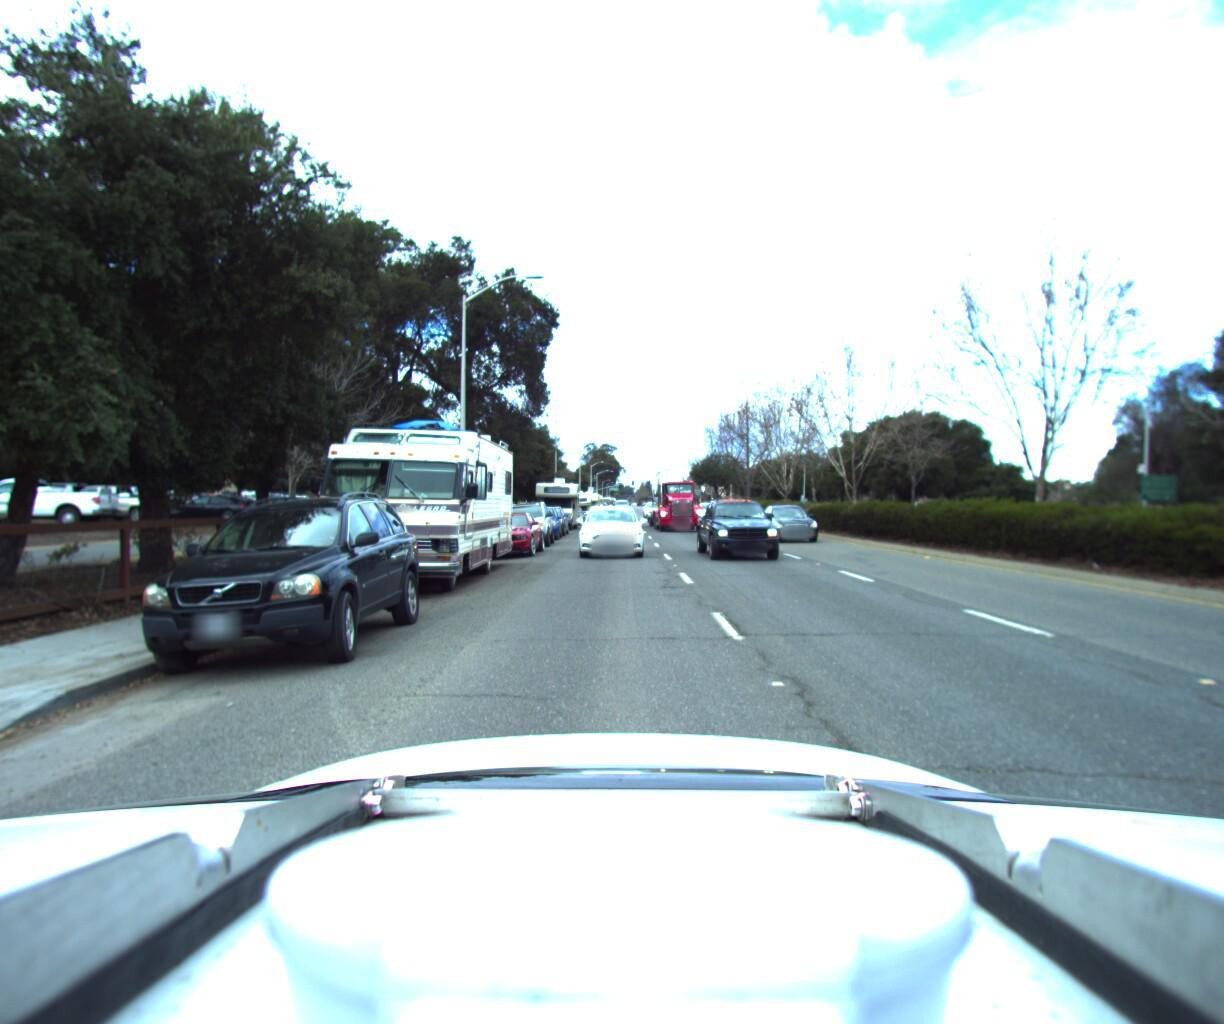car: (94, 474, 433, 673), (694, 485, 795, 561), (466, 502, 540, 559), (574, 495, 646, 554), (763, 499, 834, 542), (495, 492, 551, 543), (516, 497, 561, 535), (527, 497, 567, 531), (560, 497, 584, 519)
other_vehicle: (296, 389, 515, 591), (530, 467, 582, 524), (560, 481, 593, 517)
truck: (646, 455, 707, 531)
